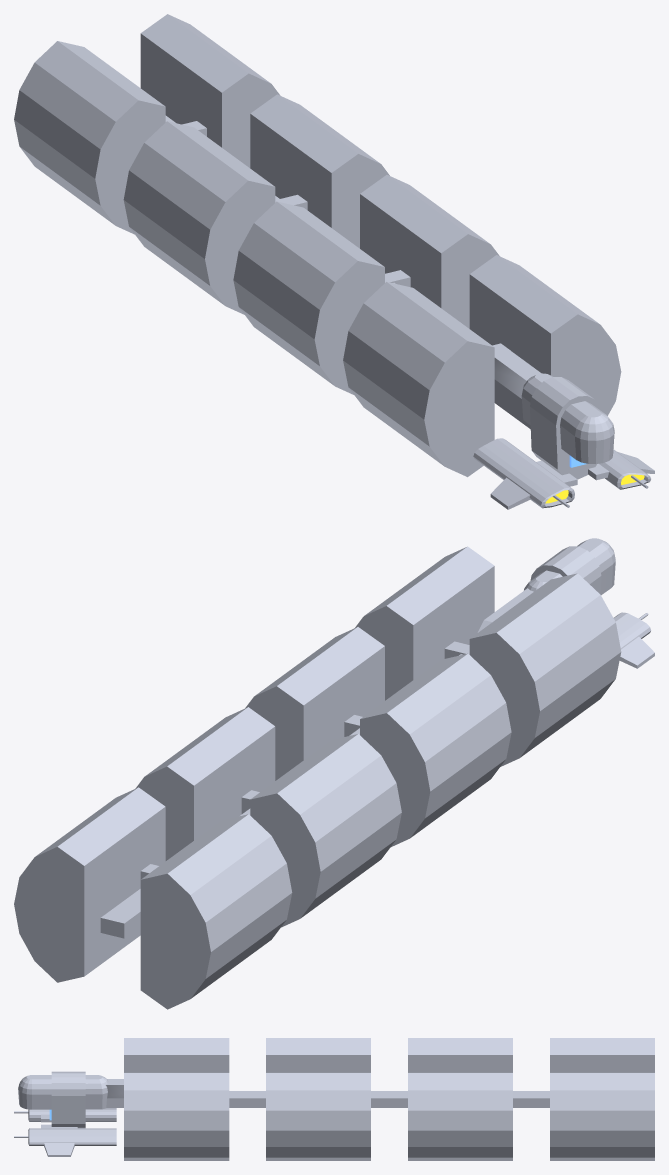
The model's file is FED_TRANSPORT_II.fbx.
3 views of the same model, one above another, from view 1: azimuth 30°, elevation 25°; view 2: azimuth 150°, elevation 25°; view 3: azimuth 270°, elevation 25° (orthographic). The views are drawn at different scales.
Visible parts, largest first — view 1: TRANSPORT2; view 2: TRANSPORT2; view 3: TRANSPORT2.
Boxes of the visible parts, box(x1,y1,x2,y2) form: TRANSPORT2: box(14, 14, 654, 509); TRANSPORT2: box(14, 538, 654, 1009); TRANSPORT2: box(14, 1038, 654, 1160).
Bounding box in the file's own units: 7625 × 33209 × 5032.
